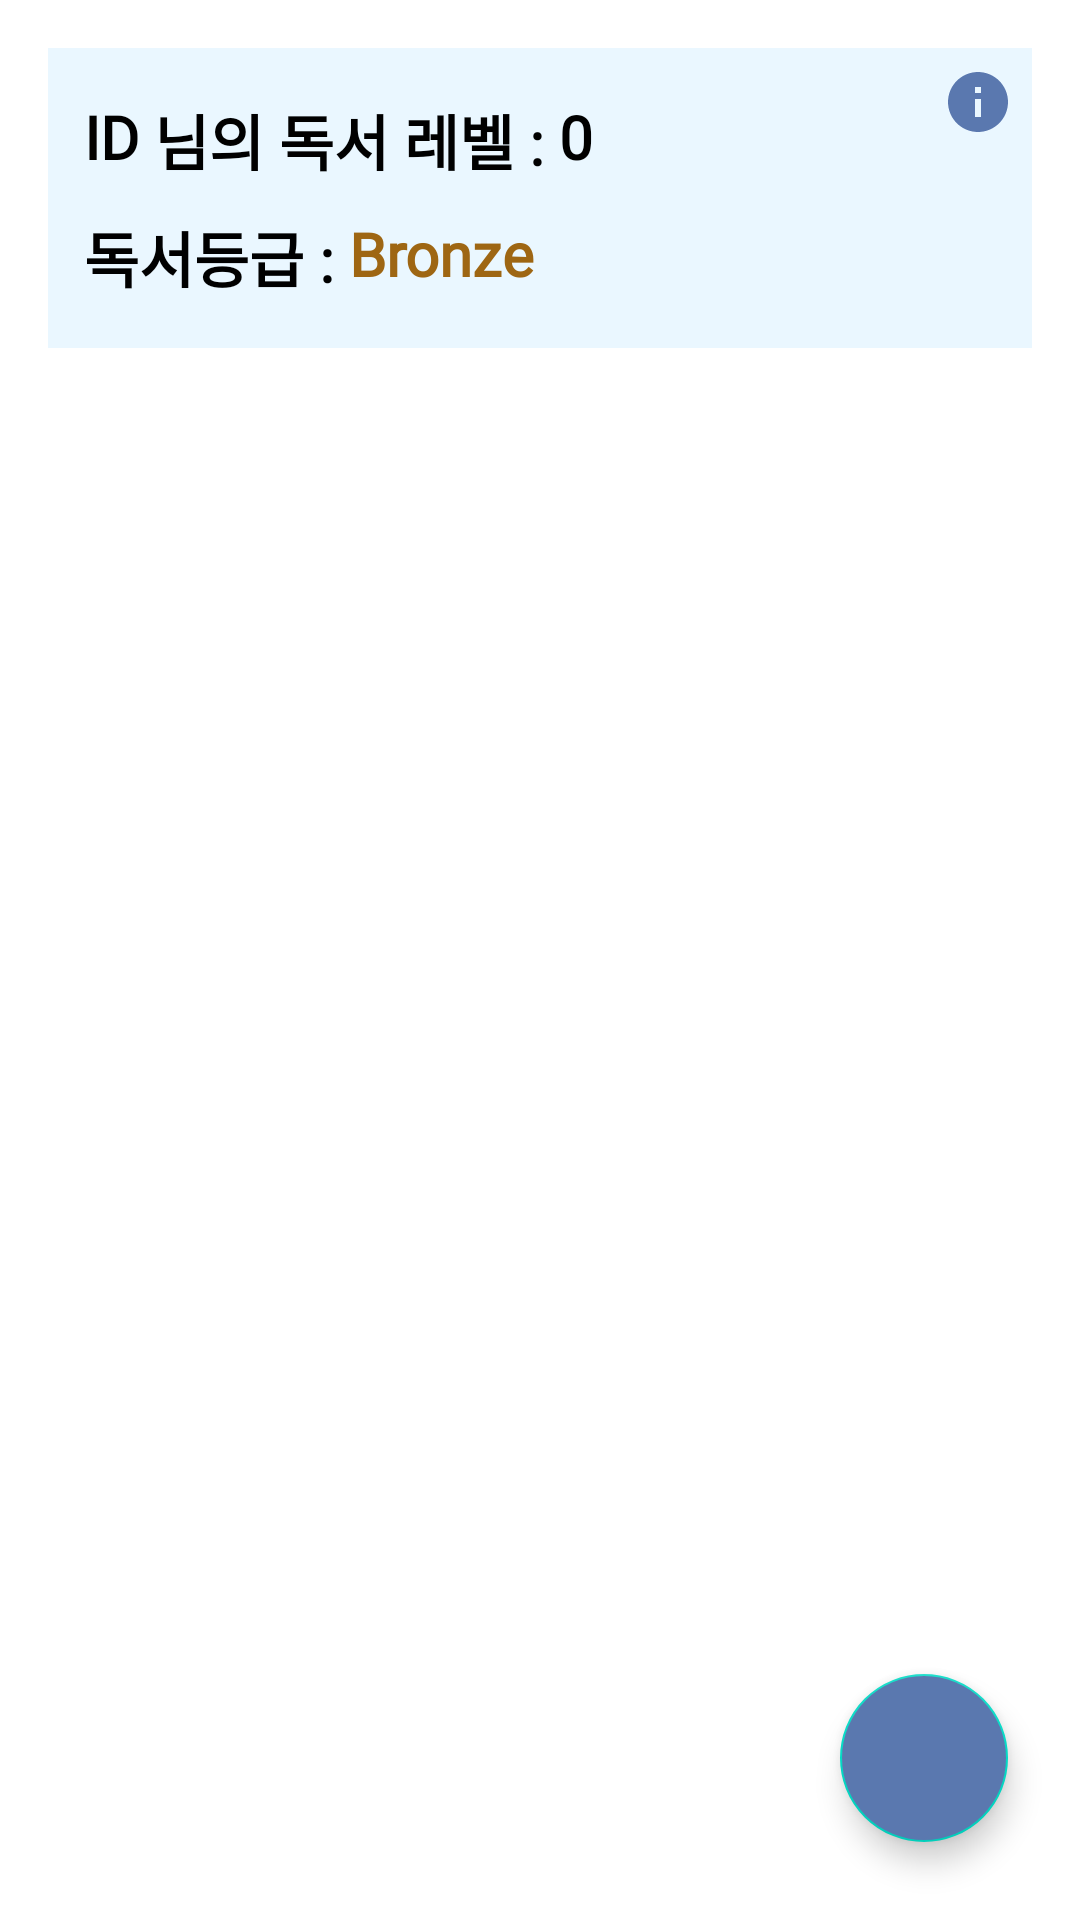

Locate icon controls on the screen. Image size 1080*1920, boxes as (x1, y1, x2, y2).
info: (948, 72, 1008, 132)
